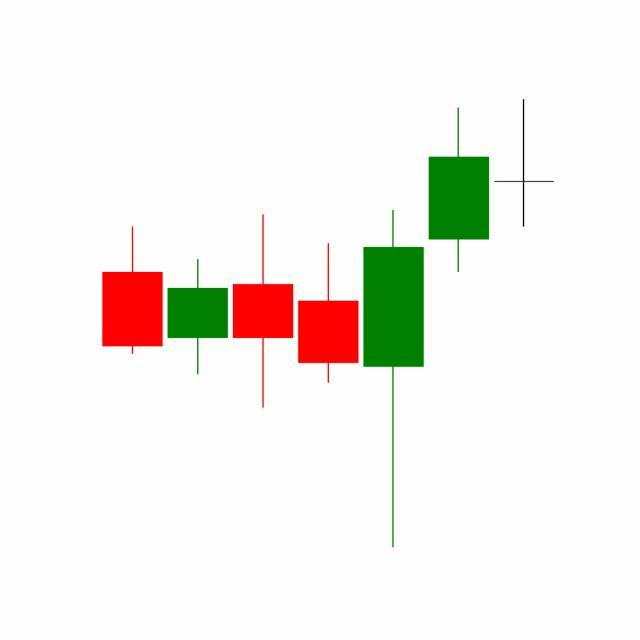Three Outside Up-Down: (295, 103, 492, 549)
